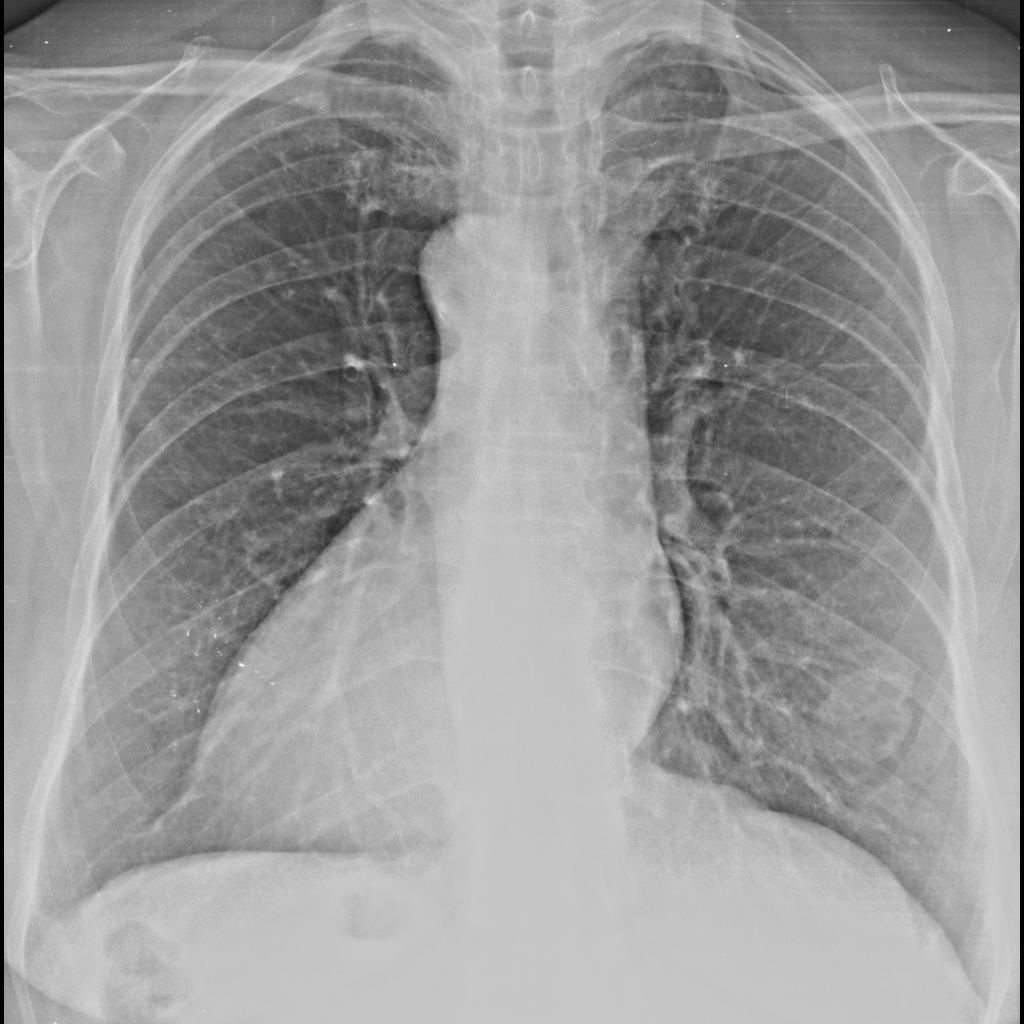Nodule: (793, 656, 925, 786)
